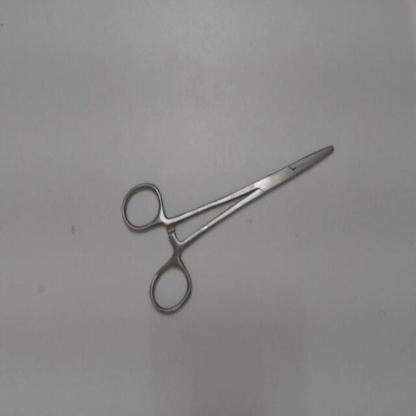Mayo Needle Holder: (114, 130, 356, 322)
